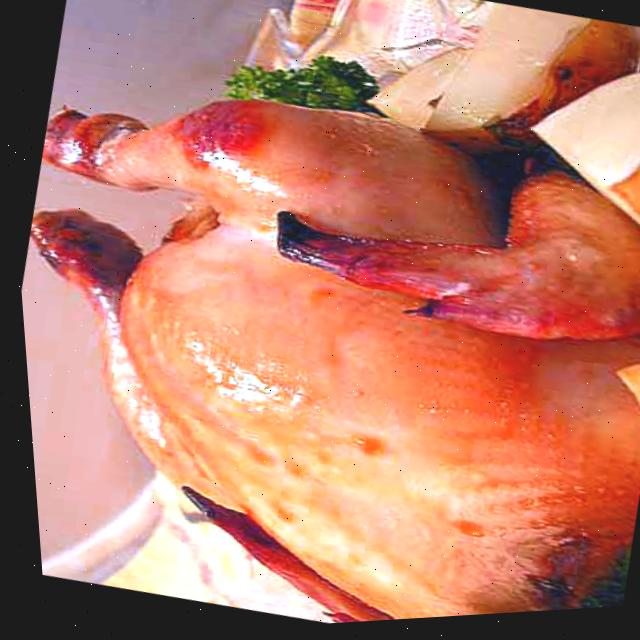鸡肉料理 含炸鸡: (3, 20, 640, 640)
